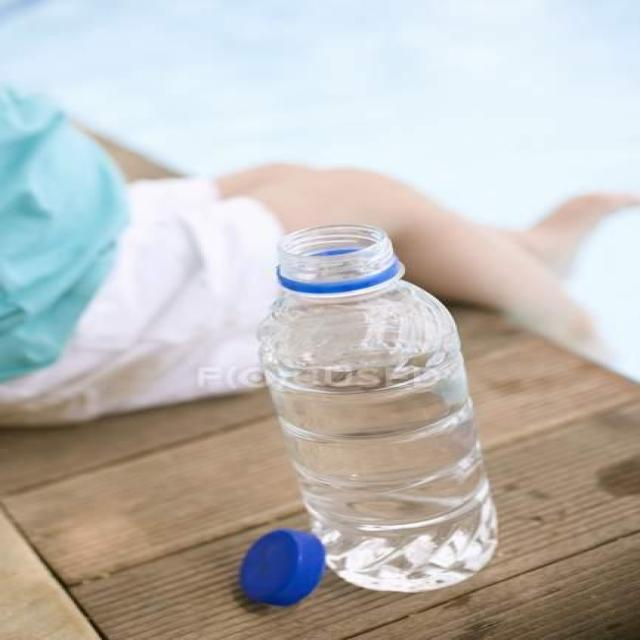bottle: (220, 217, 513, 612)
